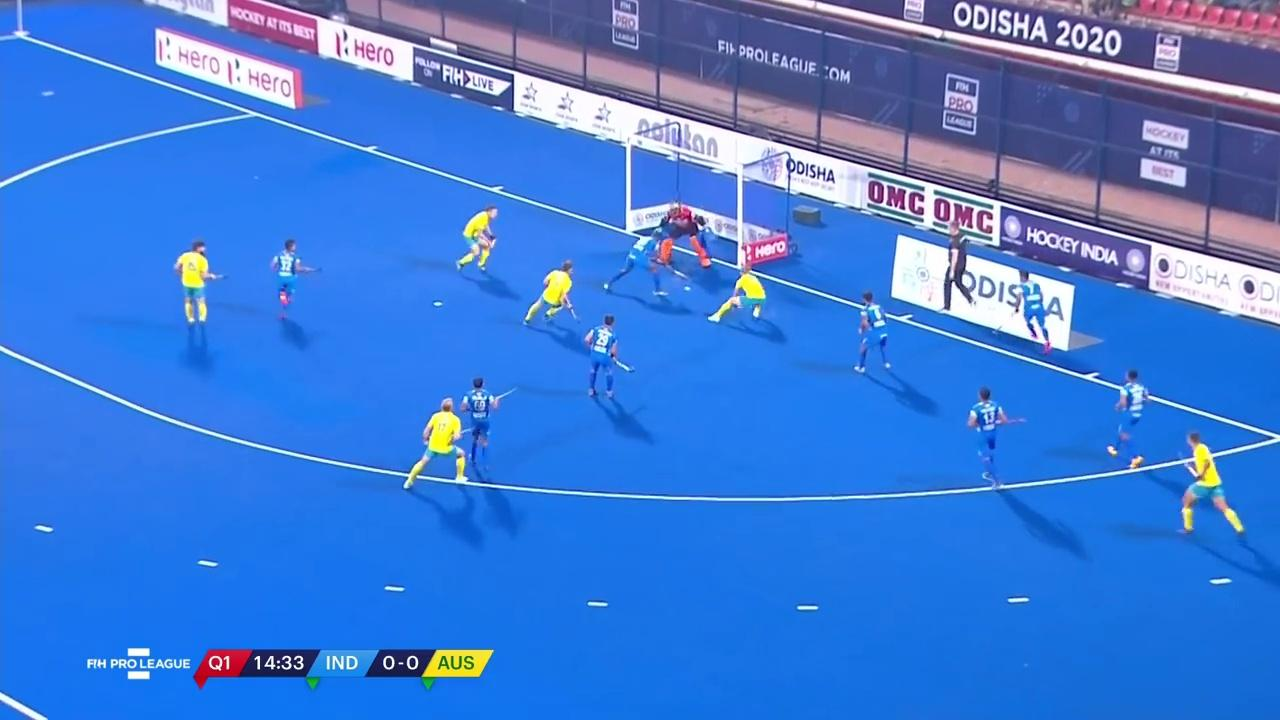ball: (680, 284, 693, 293)
